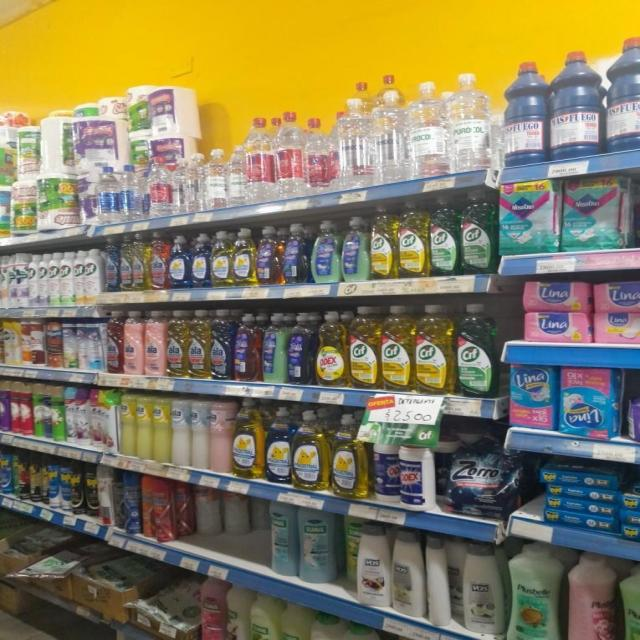ala_conc_amarillo: (188, 309, 210, 379), (166, 309, 187, 378), (133, 232, 149, 291), (120, 233, 133, 292)
ala_conc_azul: (210, 309, 233, 381), (104, 235, 120, 292)
ala_conc_rojo: (150, 232, 168, 290), (106, 310, 122, 374)
ala_crem_amarillo: (153, 393, 171, 462), (136, 393, 152, 460), (120, 391, 136, 457)
ala_crem_blanco: (172, 396, 190, 467)
ala_ultra_rosa: (144, 309, 166, 376), (123, 309, 144, 376)
cif_conc_bot_amarilla: (414, 304, 454, 395), (381, 305, 413, 392), (350, 308, 380, 390), (398, 200, 428, 278), (369, 204, 396, 280)
cif_conc_botella_verde: (456, 303, 499, 398), (460, 189, 495, 275), (430, 196, 458, 276)
cif_conc_sachet_amarillo: (1, 318, 20, 365)
magistral_con_amarillo: (331, 412, 368, 500), (292, 409, 328, 491), (232, 398, 263, 480), (233, 227, 255, 287), (211, 230, 232, 288)
magistral_con_azul: (264, 405, 292, 485), (169, 233, 189, 290), (190, 232, 210, 288)
odex: (316, 310, 347, 388)
zorro: (288, 312, 314, 386), (261, 312, 287, 384), (311, 220, 340, 284), (234, 312, 260, 383), (341, 215, 368, 282), (282, 223, 308, 284), (257, 224, 281, 286)
